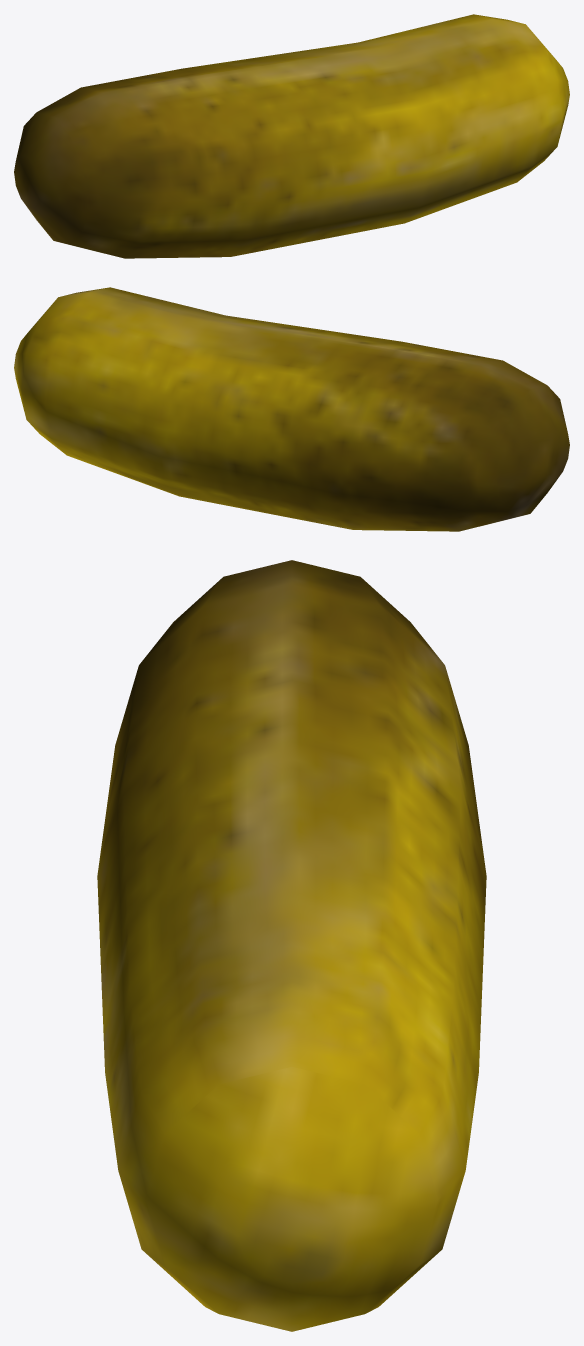
Rendered from cucumber.fbx.
3 renders of one model, top to bottom at view 1: azimuth 30°, elevation 25°; view 2: azimuth 150°, elevation 25°; view 3: azimuth 270°, elevation 25°, orthographic. The views are drawn at different scales.
Parts seen in each view (by area): view 1: cucumber; view 2: cucumber; view 3: cucumber.
Boxes of the visible parts, <box> form: cucumber: <box>14,14,569,258</box>; cucumber: <box>14,287,569,531</box>; cucumber: <box>97,560,486,1331</box>.
Size of the model in its own units: 13.93 by 4.85 by 4.44.
1 material, 1 textured.
